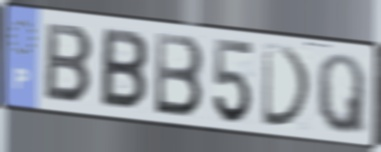5: (211, 35, 256, 127)
B: (153, 30, 206, 121), (42, 19, 96, 106), (98, 25, 150, 114)
D: (260, 41, 315, 131)
Q: (314, 51, 368, 139)
